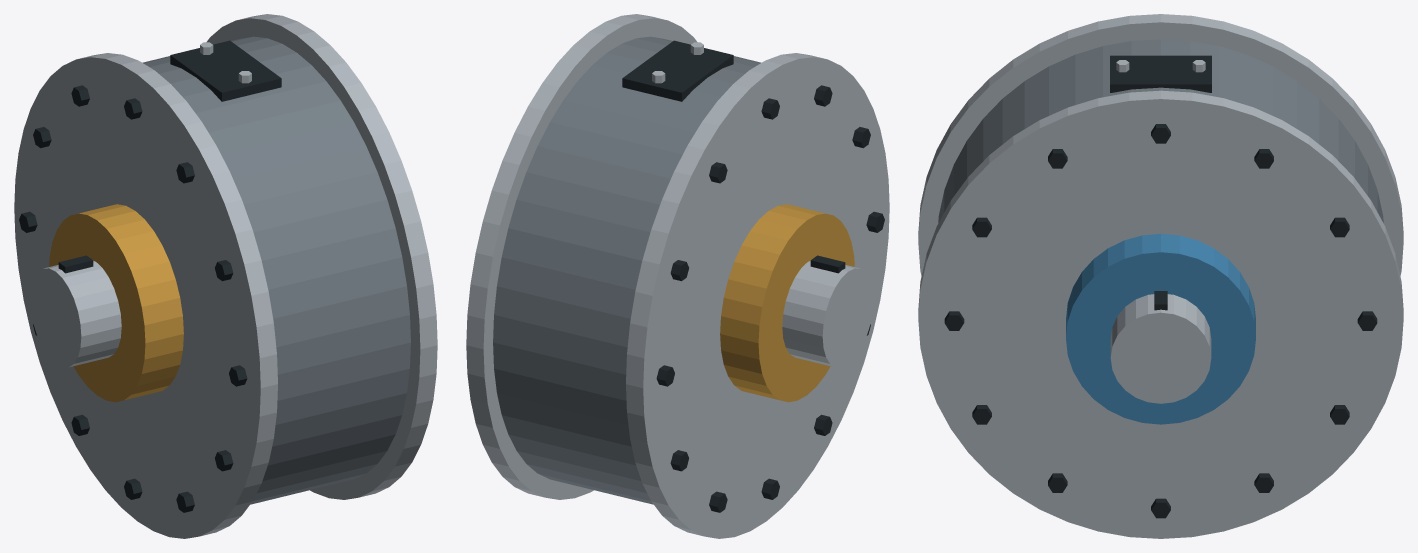
The model's file is MotorGearbox.obj.
The picture shows the model from 3 angles, left to right: view 1: azimuth 30°, elevation 25°; view 2: azimuth 150°, elevation 25°; view 3: azimuth 270°, elevation 25°; orthographic projection.
Parts seen in each view (by area): view 1: FSMotorGearbox; view 2: FSMotorGearbox; view 3: FSMotorGearbox.
Part boxes in pixels (x1,y1,x2,y2): FSMotorGearbox: [14, 14, 437, 538]; FSMotorGearbox: [466, 14, 889, 538]; FSMotorGearbox: [918, 14, 1403, 538].
Bounding box in the file's own units: 0.354 × 0.444 × 0.444.
